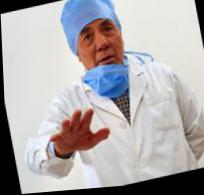WRONG: (72, 14, 131, 85)
